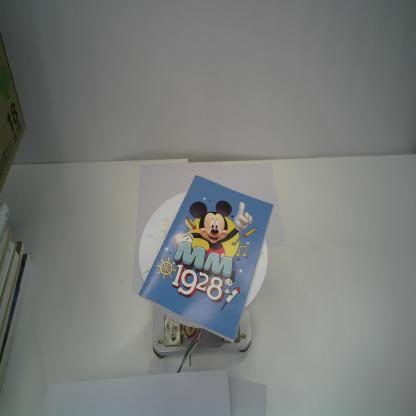Stationery: (137, 174, 274, 346)
